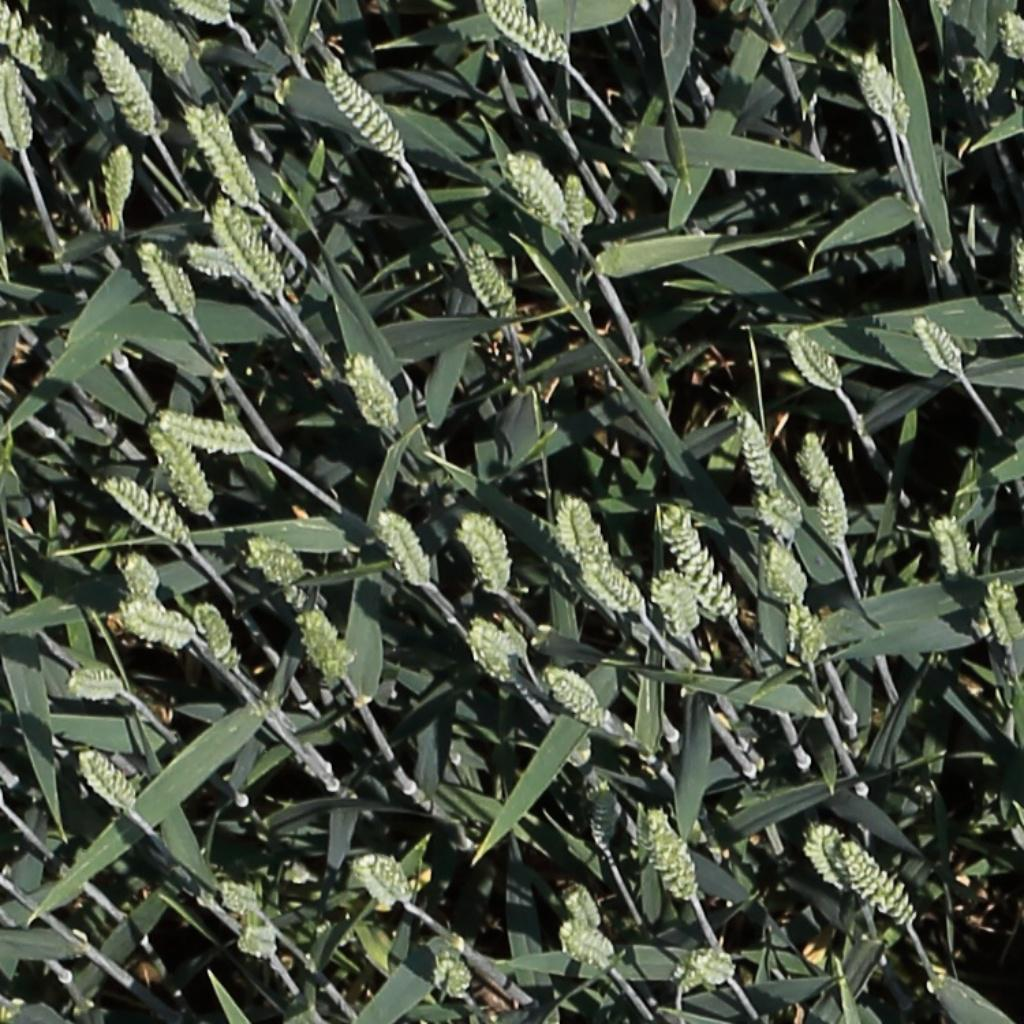0-0: (659, 501, 741, 625), (323, 60, 409, 163), (179, 91, 259, 200), (215, 199, 289, 299), (147, 415, 214, 518), (846, 837, 921, 928), (548, 491, 618, 578), (729, 393, 785, 499), (480, 0, 570, 65), (103, 476, 189, 544), (644, 805, 699, 907), (503, 147, 570, 226), (375, 506, 434, 592), (849, 57, 910, 137), (465, 234, 520, 322), (345, 348, 401, 434), (157, 412, 258, 459), (457, 513, 512, 599), (133, 236, 188, 318), (75, 748, 140, 816), (786, 324, 849, 394), (125, 6, 191, 72), (0, 51, 39, 160), (804, 824, 858, 901), (191, 596, 241, 677), (299, 607, 349, 688), (912, 309, 969, 380), (651, 573, 699, 647), (124, 604, 195, 654), (554, 671, 618, 726), (765, 536, 812, 610), (581, 561, 645, 615), (932, 512, 978, 587), (0, 0, 45, 73), (860, 49, 903, 125), (354, 857, 413, 910), (983, 577, 1021, 655), (787, 596, 831, 662), (801, 425, 839, 498), (120, 547, 161, 613), (819, 468, 851, 550), (247, 536, 304, 582), (468, 629, 512, 688), (569, 878, 612, 938), (62, 659, 126, 698), (483, 613, 535, 659), (559, 922, 614, 965), (675, 951, 737, 989), (755, 494, 805, 540), (231, 917, 280, 961), (106, 135, 132, 217), (563, 165, 589, 247), (965, 54, 1002, 109), (592, 780, 618, 858), (185, 243, 240, 275), (178, 0, 231, 31), (998, 5, 1024, 68), (441, 953, 473, 1003), (1007, 229, 1024, 322), (217, 883, 263, 913)
